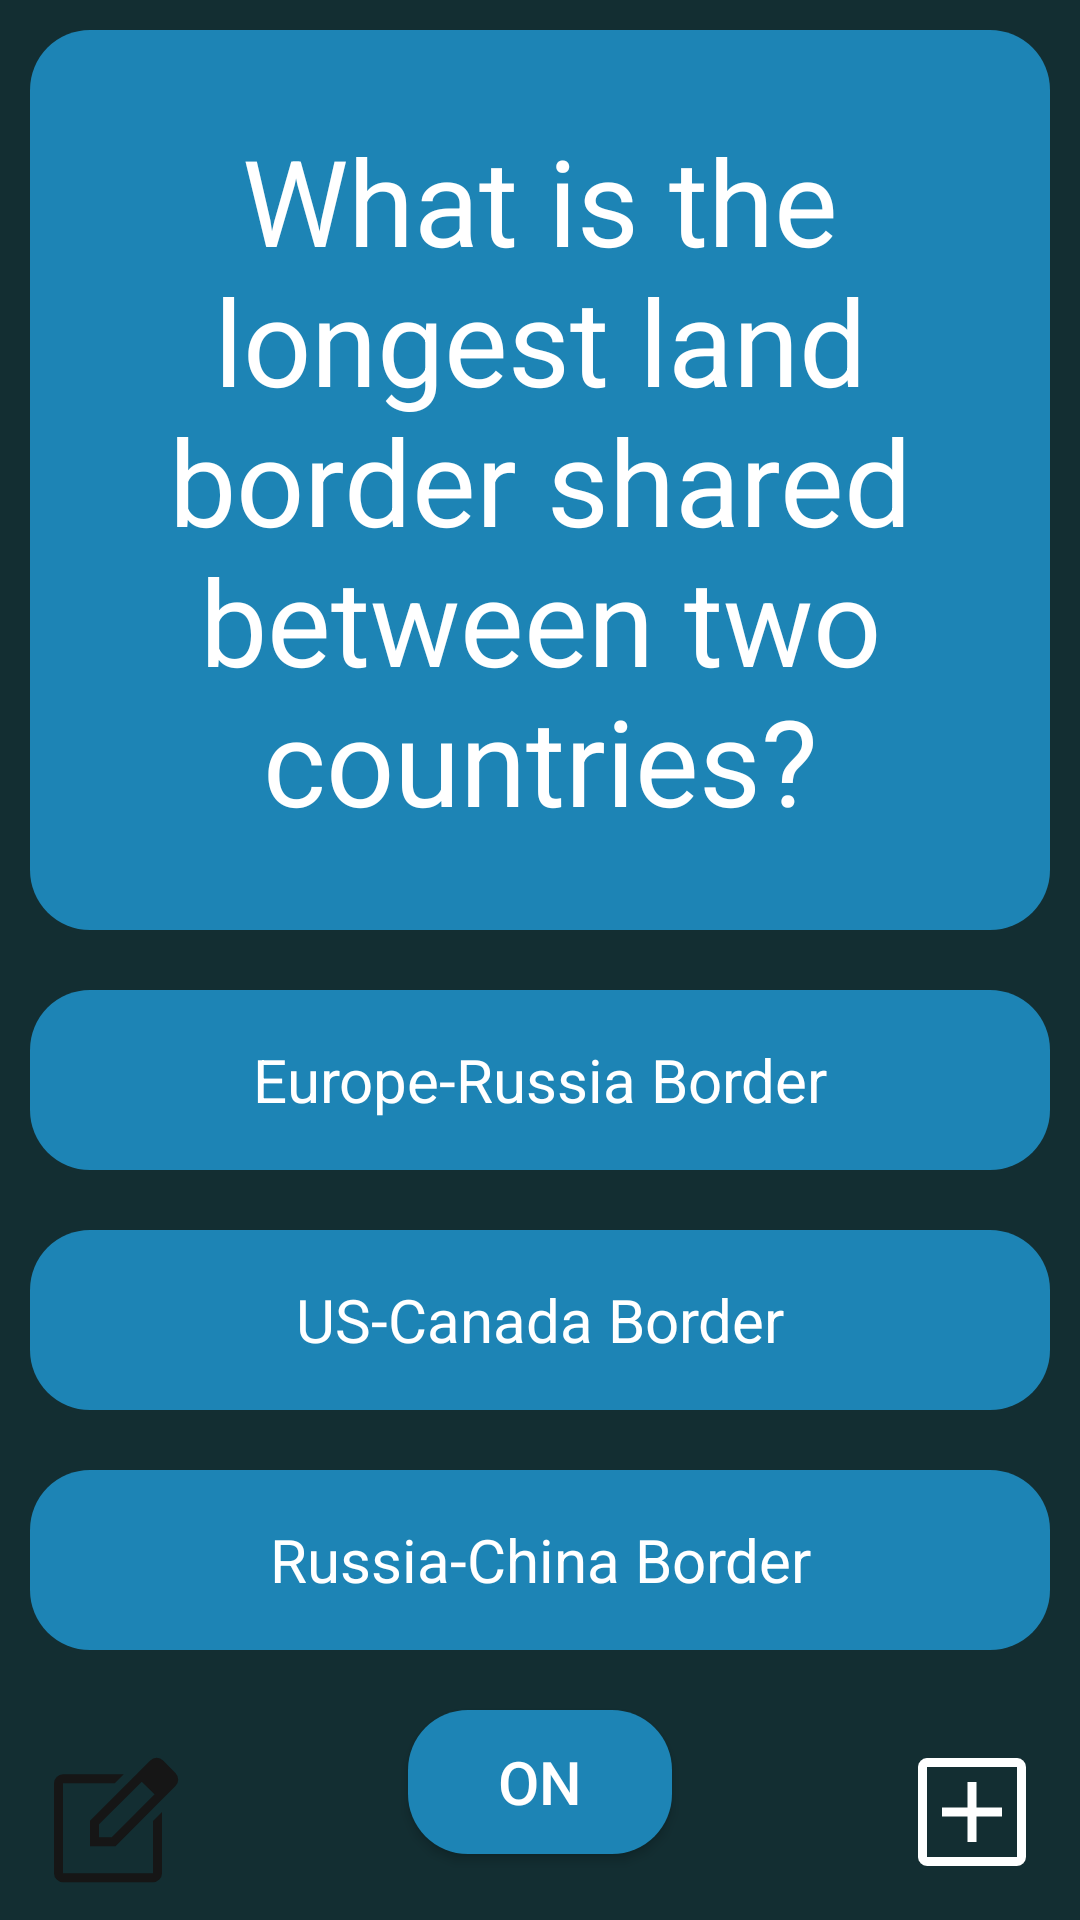

Where icons sit on this 1080×1920 app screen, as (x1, y1, x2, y2):
add box: (918, 1758, 1026, 1866)
edit box: (54, 1758, 178, 1882)
